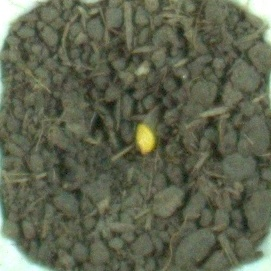pepper seed: (54, 41, 214, 199)
